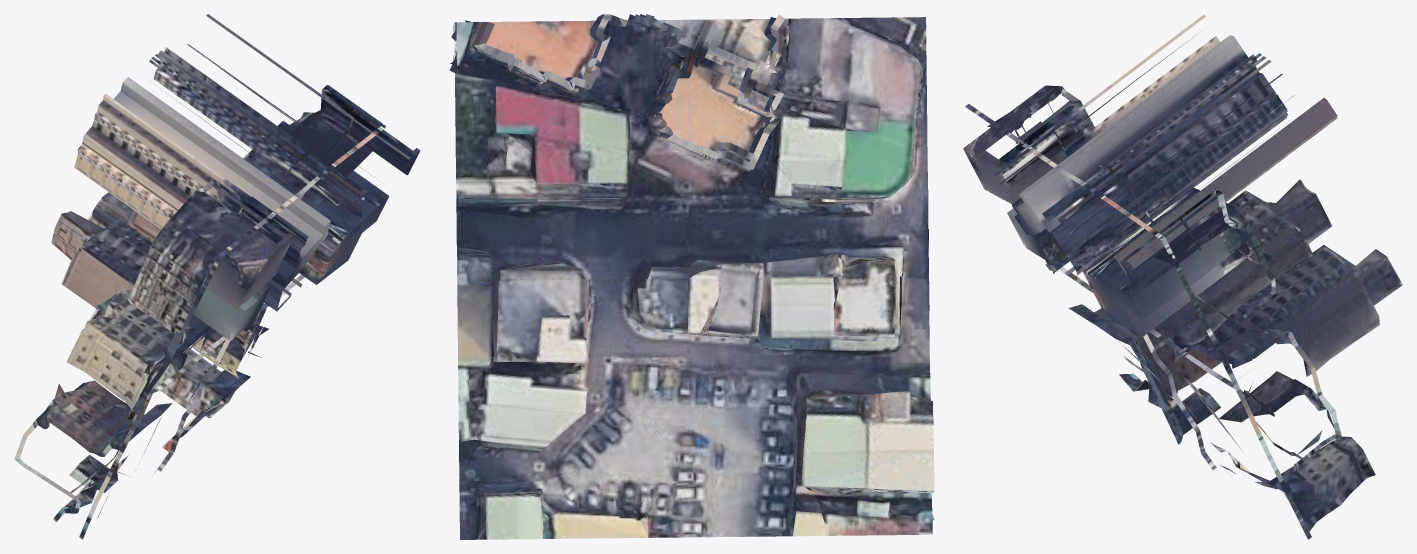
3 renders of one model, left to right at view 1: azimuth 30°, elevation 25°; view 2: azimuth 150°, elevation 25°; view 3: azimuth 270°, elevation 25°, orthographic. The views are drawn at different scales.
Size of the model in its own units: 87.55 by 88.08 by 81.6.
3 materials, 3 textured.
